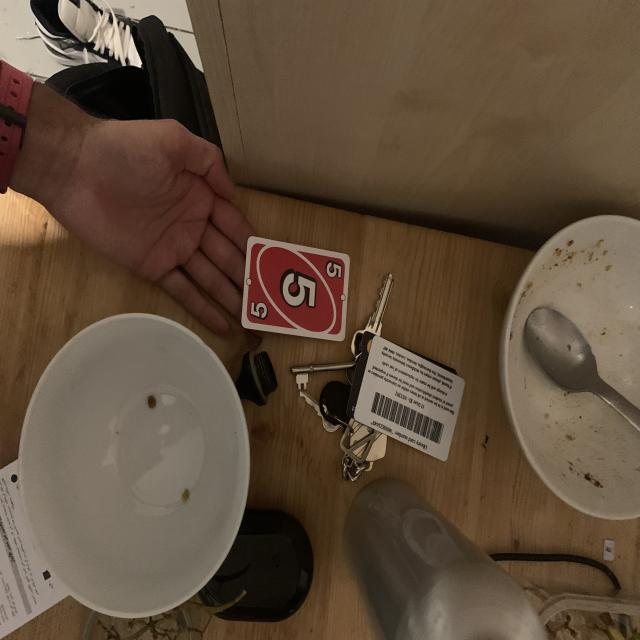lred-5: (322, 260, 344, 284)
